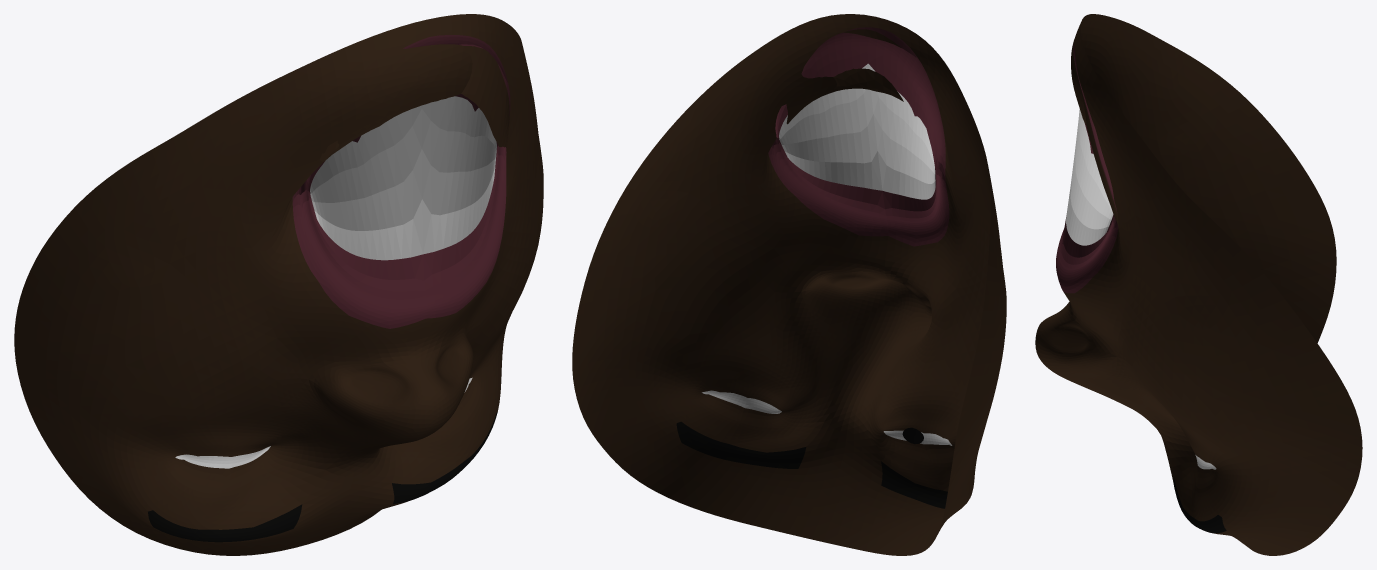
File: injured.obj
The picture shows the model from 3 angles, left to right: view 1: azimuth 30°, elevation 25°; view 2: azimuth 150°, elevation 25°; view 3: azimuth 270°, elevation 25°; orthographic projection. The views are drawn at different scales.
Visible parts, largest first — view 1: face_mesh_subdivided; view 2: face_mesh_subdivided; view 3: face_mesh_subdivided.
Boxes of the visible parts, x1,y1,x2,y2 form: face_mesh_subdivided: [14, 14, 543, 555]; face_mesh_subdivided: [572, 14, 1006, 555]; face_mesh_subdivided: [1035, 14, 1362, 555].
Bounding box in the file's own units: 0.5867 × 0.6934 × 0.414.
